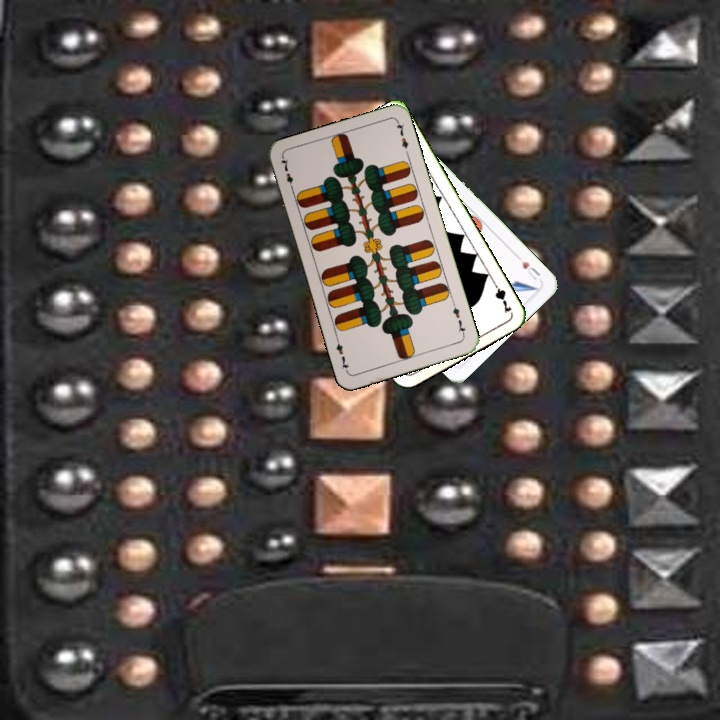E7: (448, 299, 468, 338), (277, 154, 296, 194)
G7: (489, 277, 514, 315)
HU: (517, 257, 543, 283)
